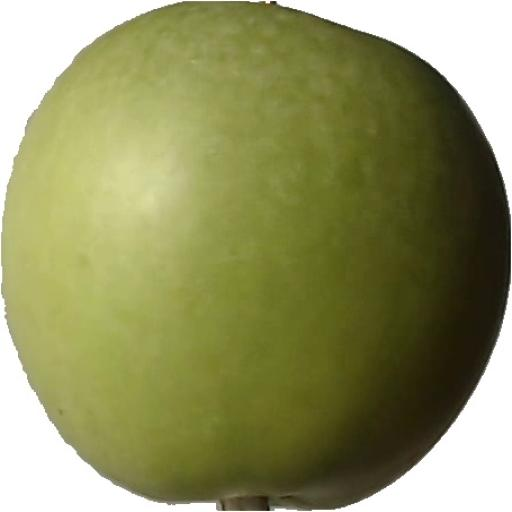apple-unripe: (0, 0, 505, 472)
